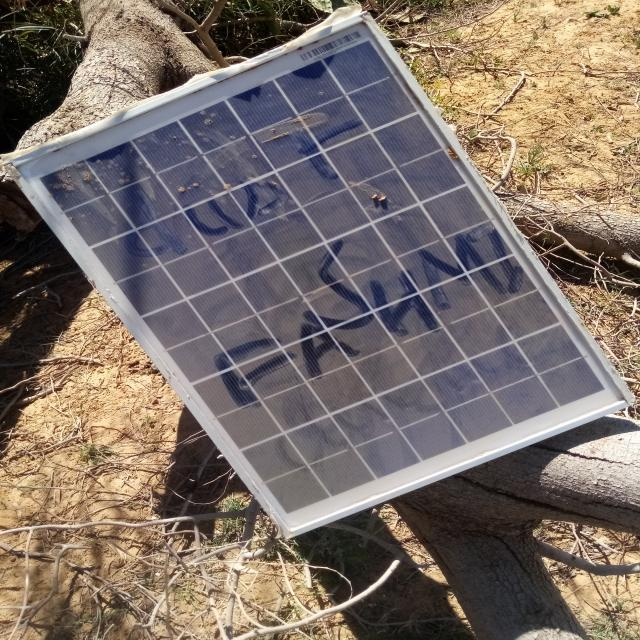faulty: (9, 15, 632, 535)
